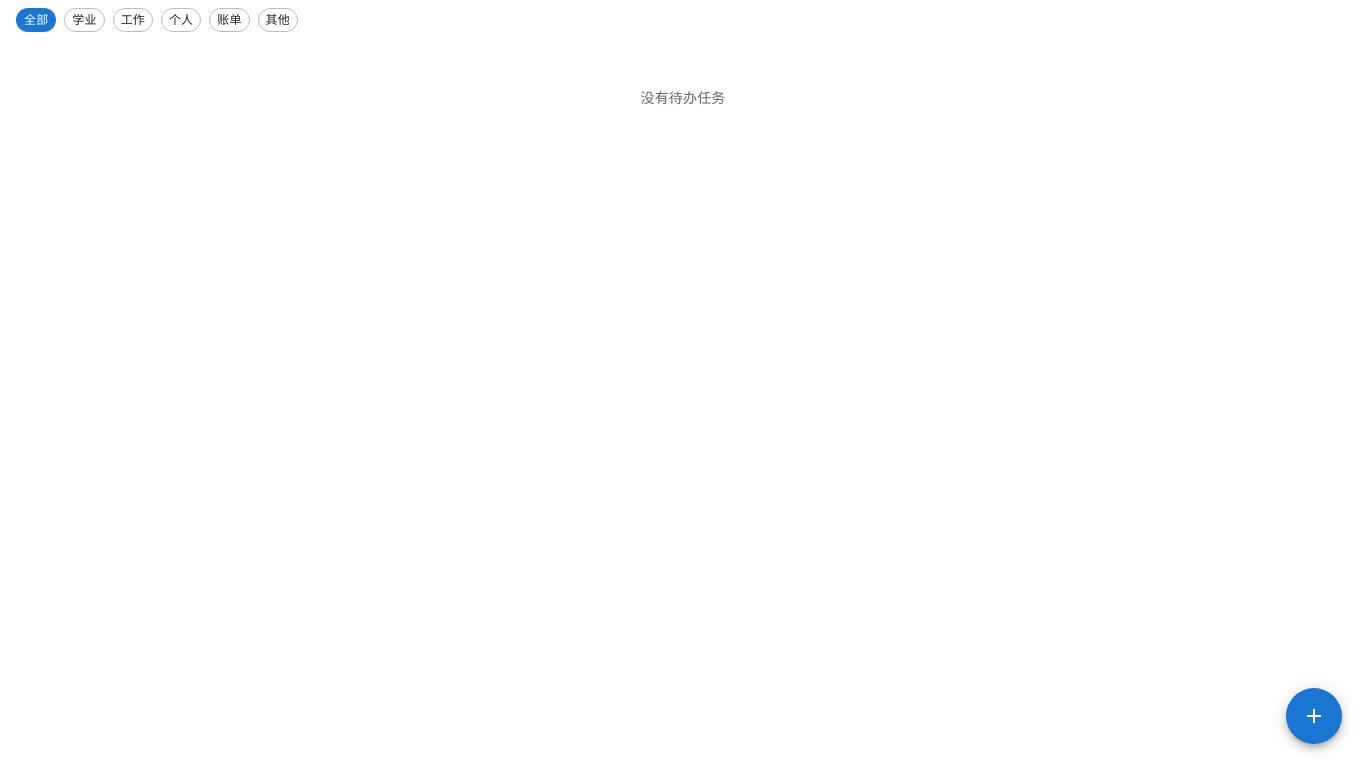
Test: 速记模式：真实对话框 × 真实页面闭环 › quick 返回 201 且 ai_parsed=false：按原文保存的提示，不进「保存失败」错误分支
Click the button named "新建待办": (1314, 716) [1286,688,1342,744]
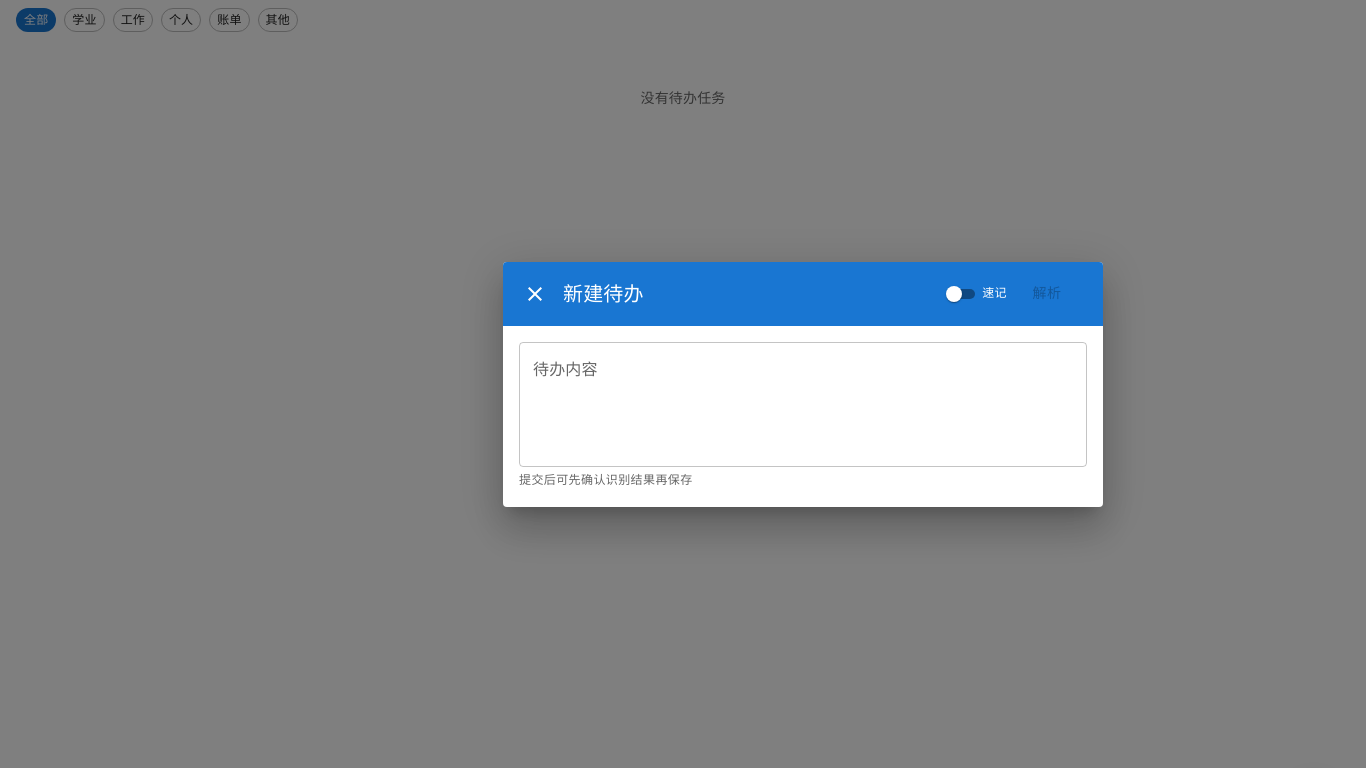
Now the text box labelled "待办内容" is shown, box [533,358,1073,450]
Click the switch named "速记模式": (975, 294) [942,282,1007,306]
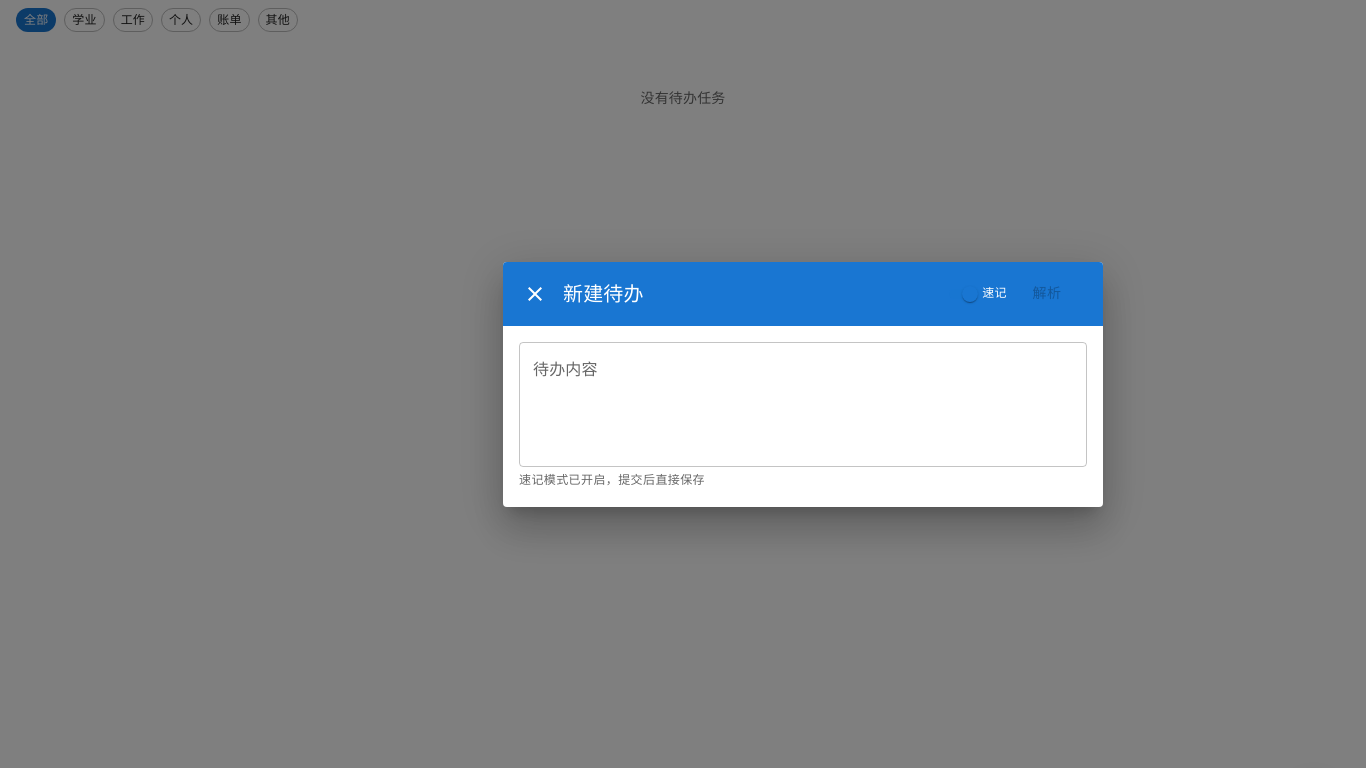
In the text box labelled "待办内容": (803, 404) [533,358,1073,450], type "明天提醒我去把空调修了"
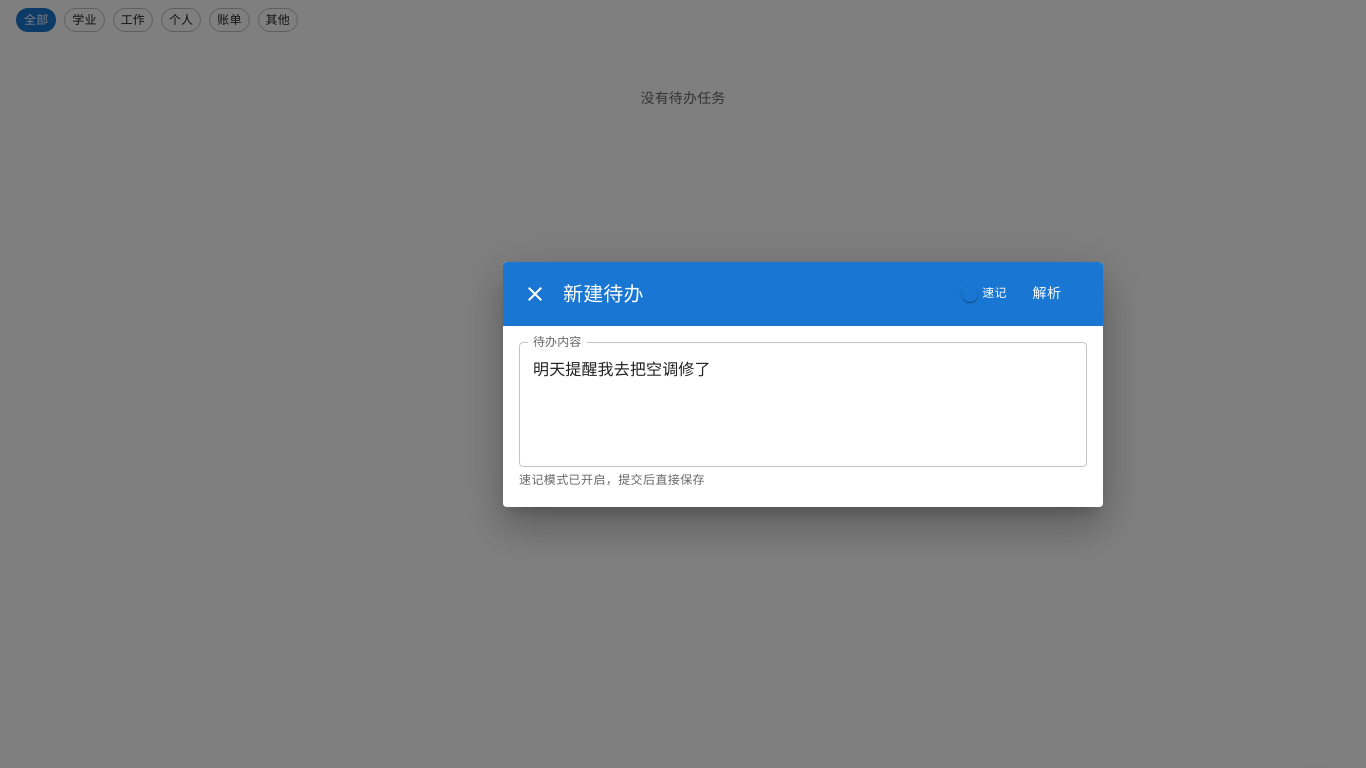
Click the button "解析": (1047, 294) [1015,275,1079,312]
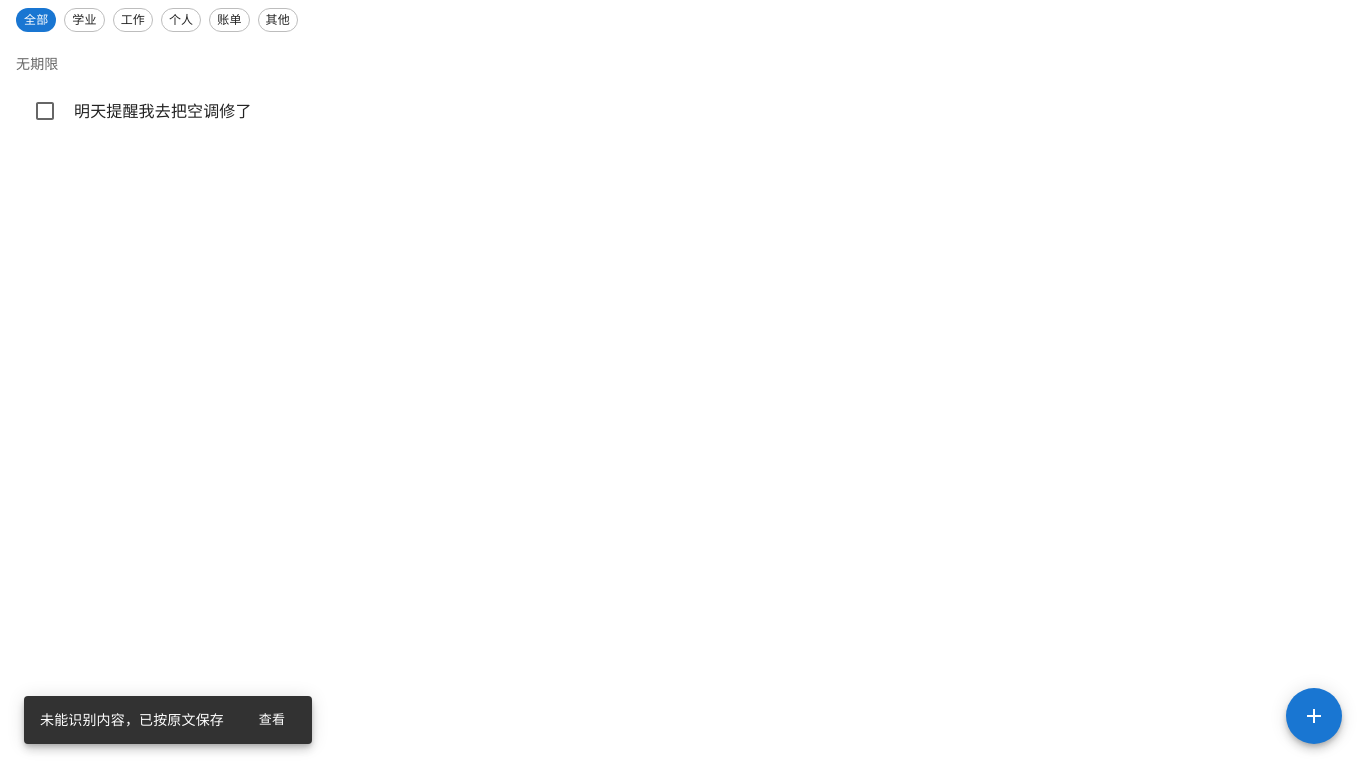
Now the text "未能识别内容，已按原文保存" is shown, box [40,712,224,728]
